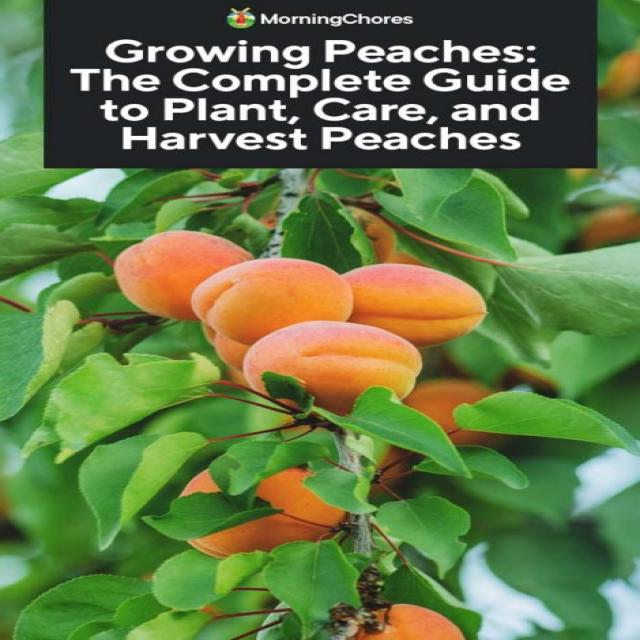Peach: (12, 172, 637, 640)
